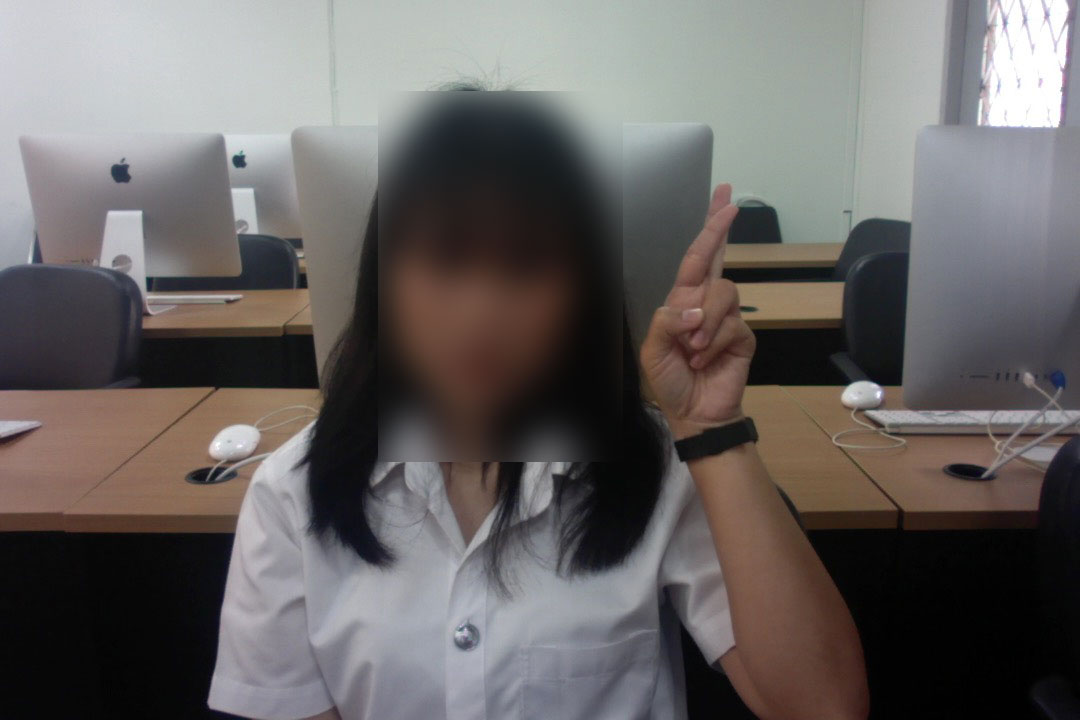rao: (632, 182, 777, 435)
